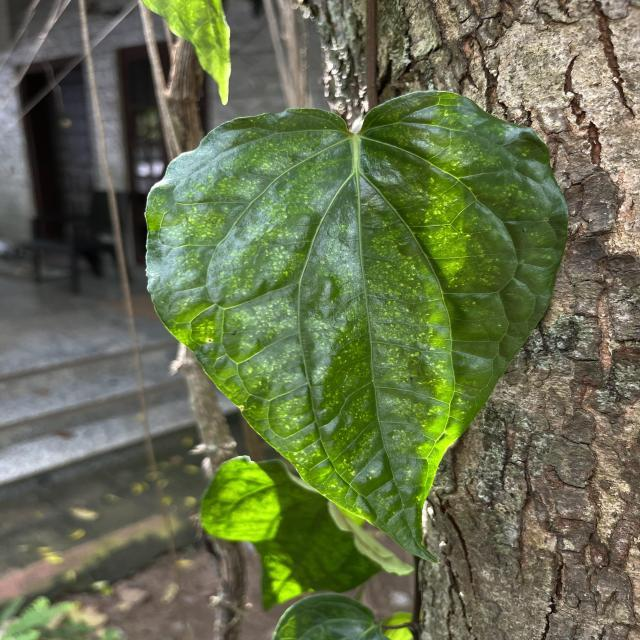Piper betle: (138, 86, 576, 574)
